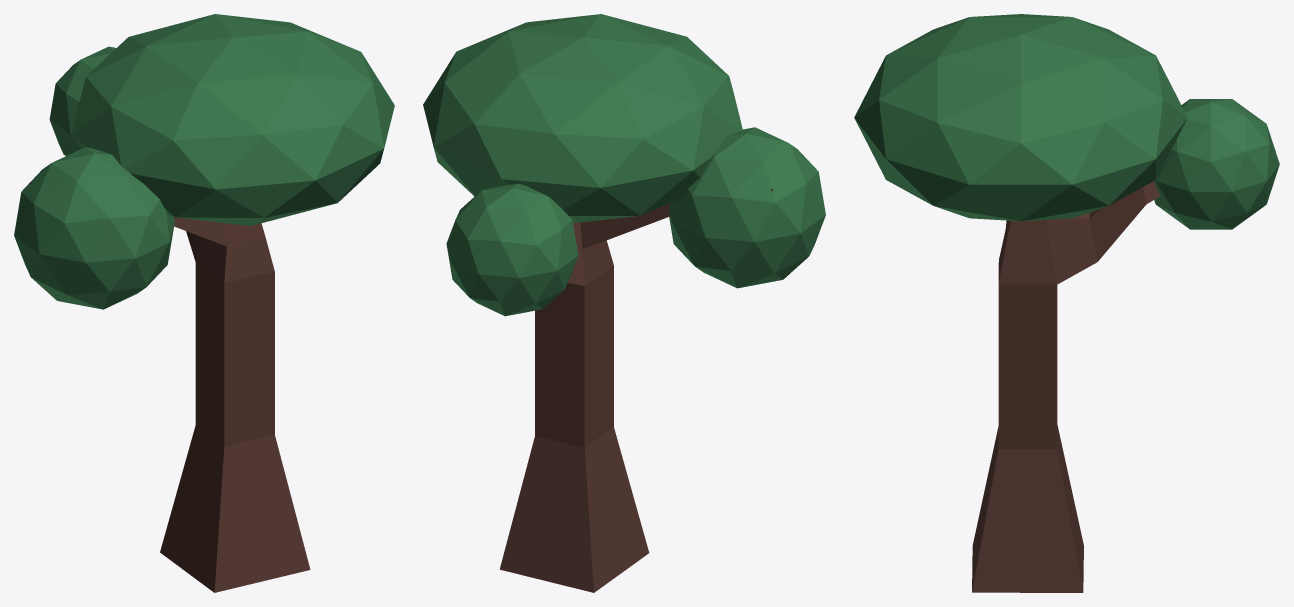
The model's file is tree.fbx.
3 renders of one model, left to right at view 1: azimuth 30°, elevation 25°; view 2: azimuth 150°, elevation 25°; view 3: azimuth 270°, elevation 25°, orthographic.
Parts seen in each view (by area): view 1: Trunk; view 2: Trunk; view 3: Trunk.
Boxes of the visible parts, box(x1,y1,x2,y2) form: Trunk: box(14, 14, 394, 592); Trunk: box(423, 14, 825, 592); Trunk: box(854, 14, 1279, 592).
Size of the model in its own units: 1598 by 2266 by 1643.
